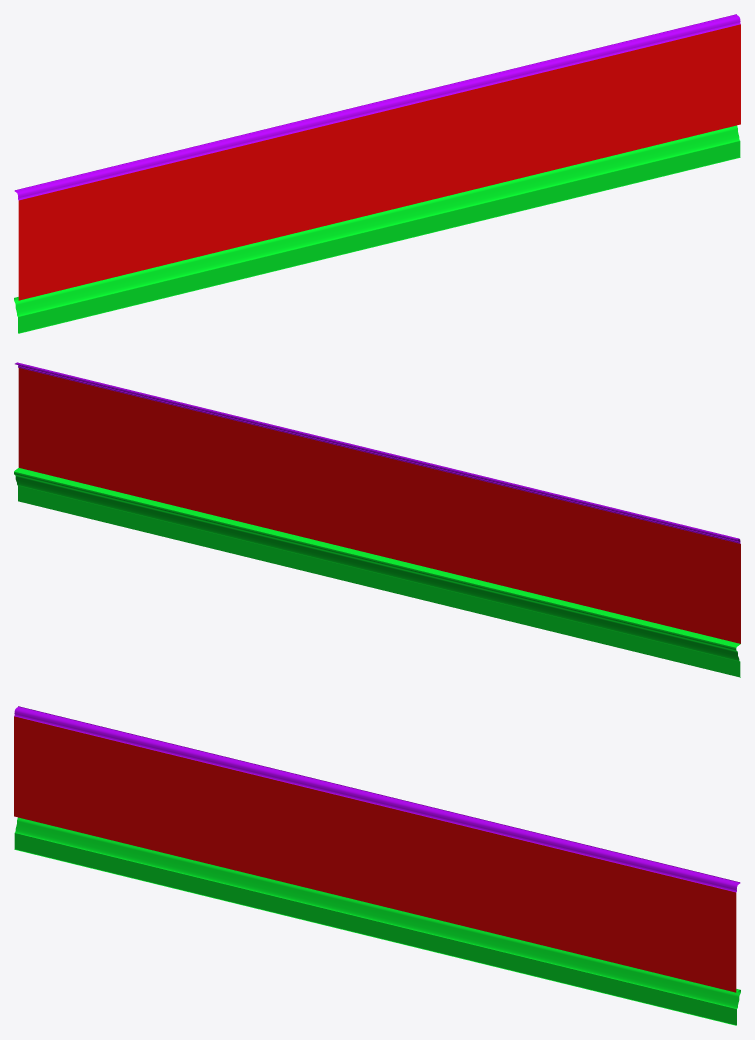
The model's file is AR-WallTop_7M_01.FBX.
3 renders of one model, top to bottom at view 1: azimuth 30°, elevation 25°; view 2: azimuth 150°, elevation 25°; view 3: azimuth 330°, elevation 25°, orthographic.
Parts seen in each view (by area): view 1: AR-WallTop_7M_01; view 2: AR-WallTop_7M_01; view 3: AR-WallTop_7M_01.
Part boxes in pixels (left/top/right/bottom): AR-WallTop_7M_01: left=14, top=14, right=740, bottom=333; AR-WallTop_7M_01: left=14, top=362, right=740, bottom=677; AR-WallTop_7M_01: left=14, top=706, right=740, bottom=1025.
Size of the model in its own units: 700 by 130 by 7.84.
